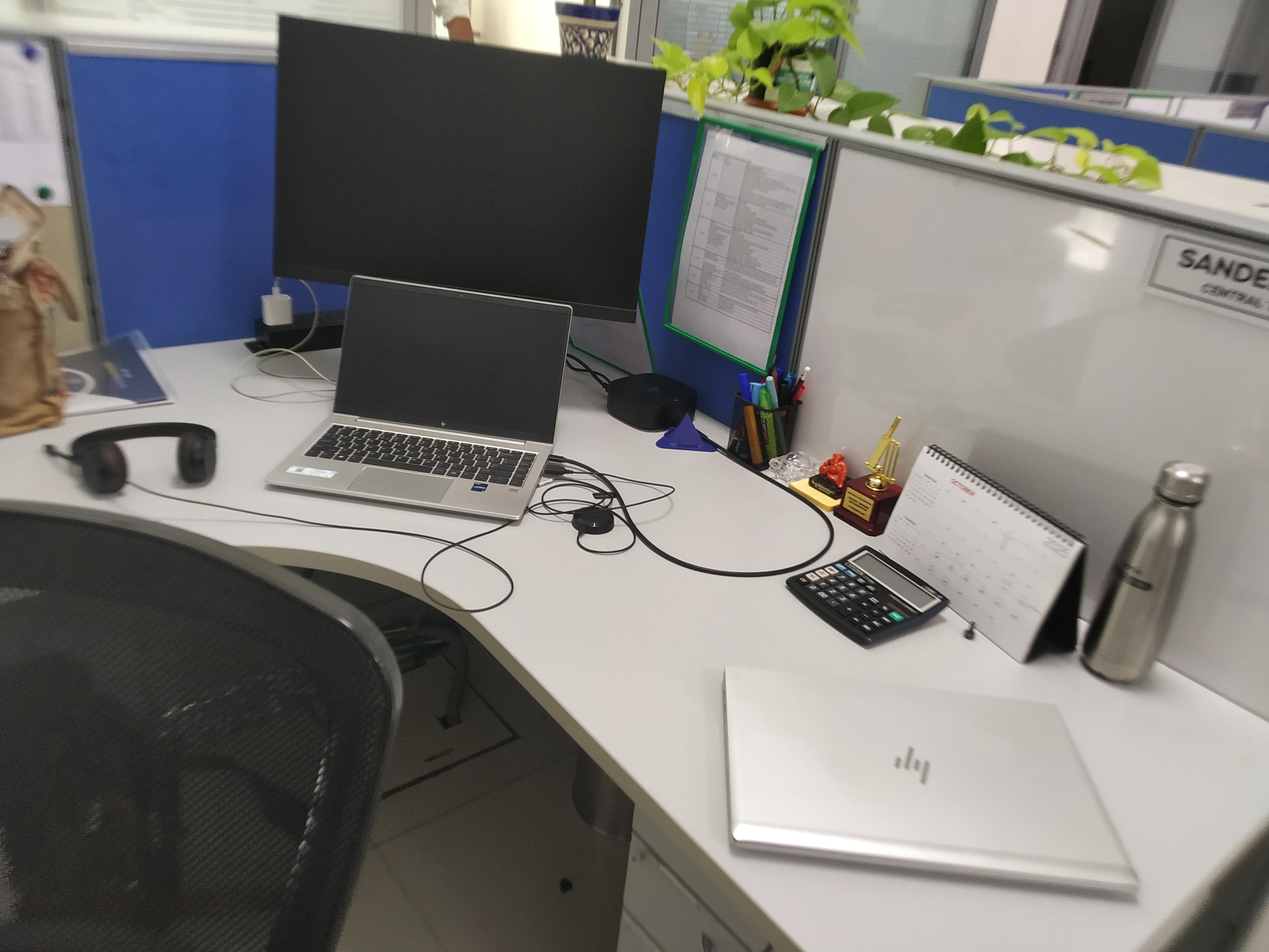bottle: (1074, 457, 1218, 690)
calender: (871, 438, 1097, 671)
desktop: (267, 9, 673, 328)
headphone: (39, 419, 221, 500)
laptop: (714, 664, 1158, 905), (253, 267, 575, 529)
page: (657, 105, 839, 384)
